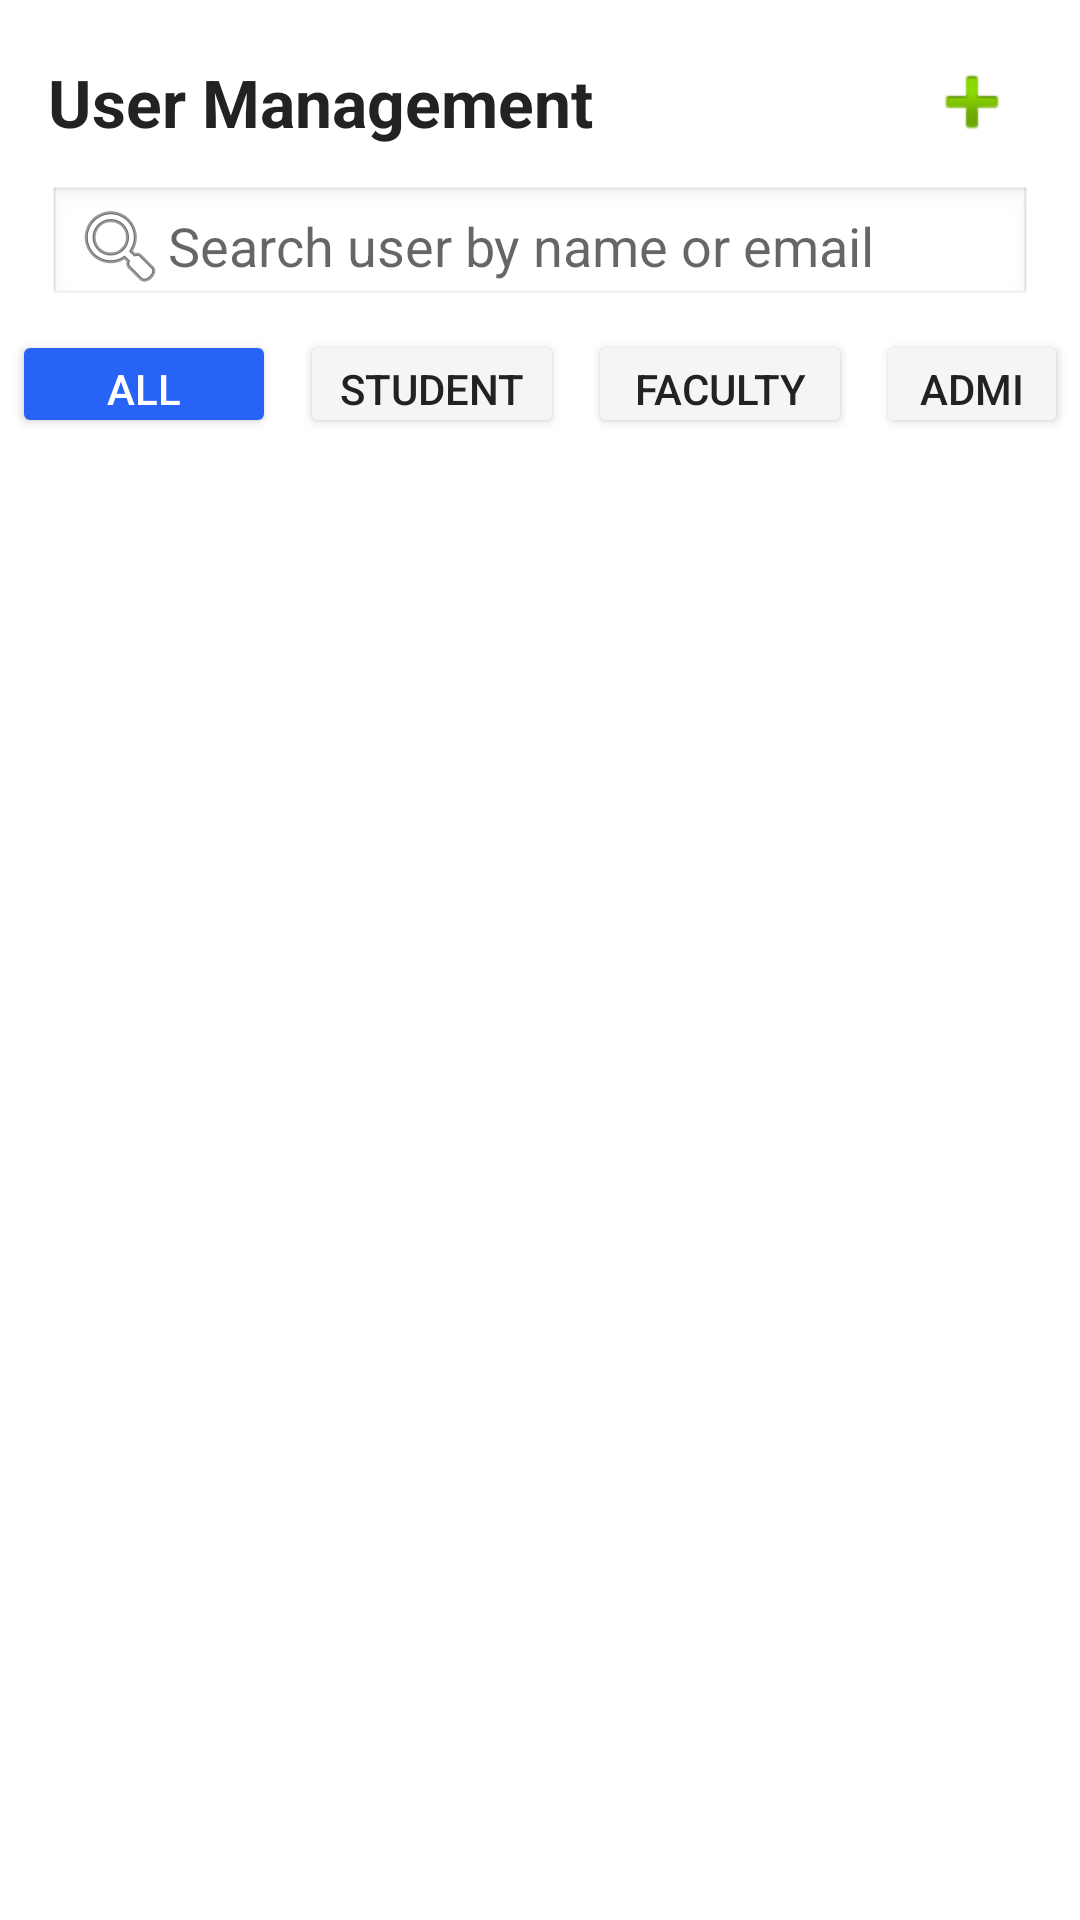

Named icons in this screenshot (1080w x 1920h) and their bounding boxes, region(x1, y1, x2, y2):
Add User: region(945, 75, 999, 129)
